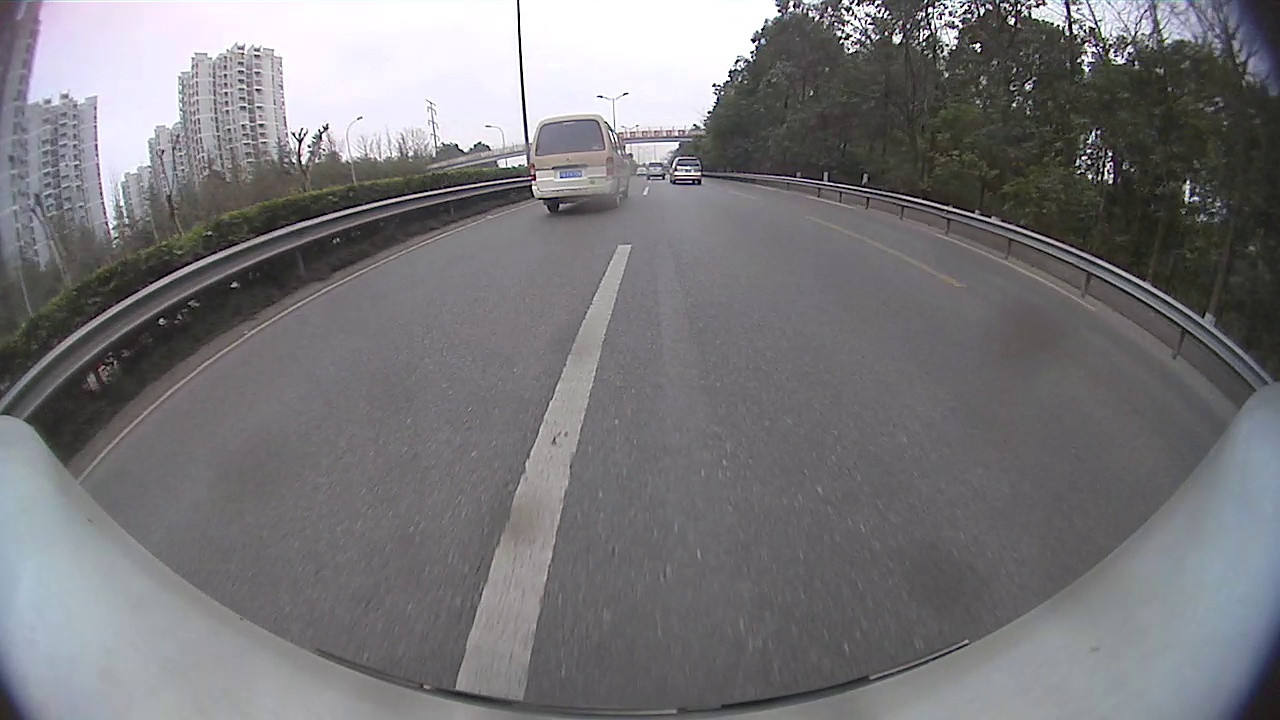car: (527, 113, 634, 212), (669, 156, 703, 184)
